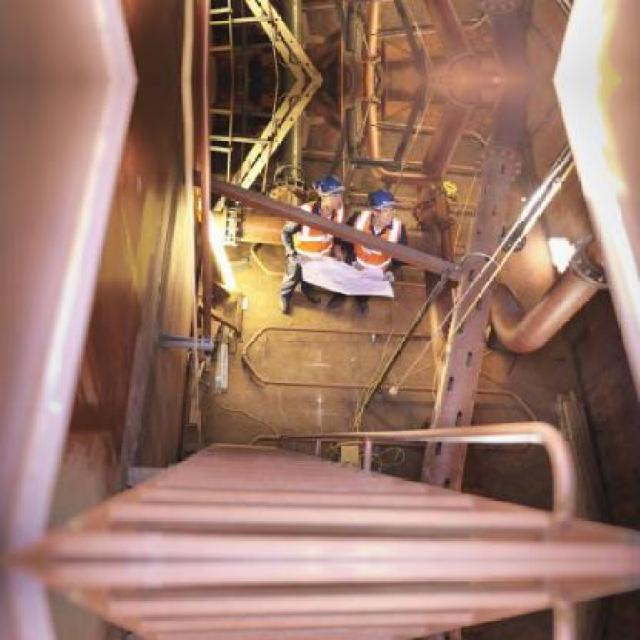helmet: (367, 185, 402, 228), (311, 174, 344, 211)
